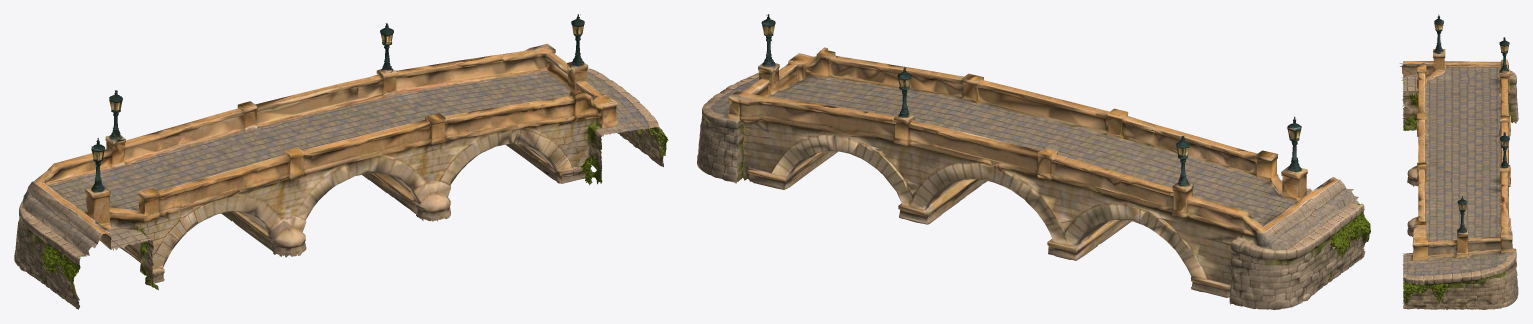
File: m_tb_stonebridge.glb
The picture shows the model from 3 angles, left to right: view 1: azimuth 30°, elevation 25°; view 2: azimuth 150°, elevation 25°; view 3: azimuth 270°, elevation 25°; orthographic projection. The views are drawn at different scales.
Size of the model in its own units: 0.9995 by 0.2347 by 0.2368.
1 material, 1 textured.
